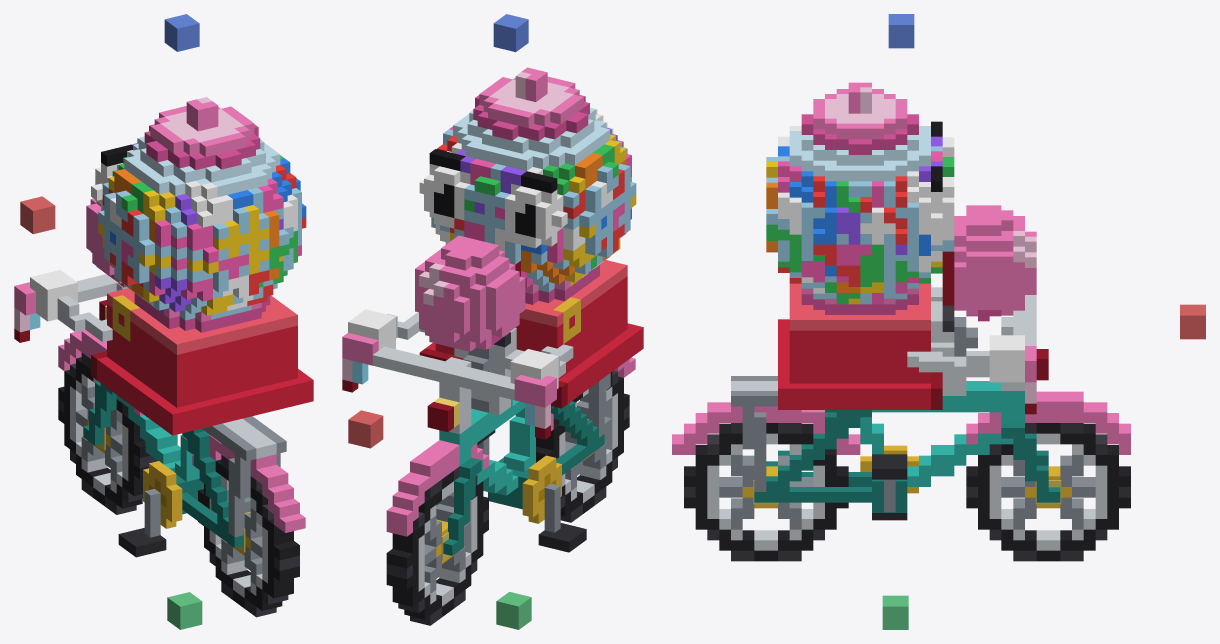
Rendered from ChicleteiraBicicleteira.glb.
The picture shows the model from 3 angles, left to right: view 1: azimuth 30°, elevation 25°; view 2: azimuth 150°, elevation 25°; view 3: azimuth 270°, elevation 25°; orthographic projection.
Visible parts, largest first — view 1: ChicleteiraBicicleteira_Body, ChicleteiraBicicleteira_Prop1, ChicleteiraBicicleteira_Prop2, ChicleteiraBicicleteira_Prop3, ChicleteiraBicicleteira_Front, ChicleteiraBicicleteira_Top, ChicleteiraBicicleteira_Built; view 2: ChicleteiraBicicleteira_Body, ChicleteiraBicicleteira_Prop1, ChicleteiraBicicleteira_Prop2, ChicleteiraBicicleteira_Prop3, ChicleteiraBicicleteira_Top, ChicleteiraBicicleteira_Front, ChicleteiraBicicleteira_Built; view 3: ChicleteiraBicicleteira_Body, ChicleteiraBicicleteira_Prop1, ChicleteiraBicicleteira_Prop2, ChicleteiraBicicleteira_Prop3, ChicleteiraBicicleteira_Built, ChicleteiraBicicleteira_Top, ChicleteiraBicicleteira_Front.
Part boxes in pixels (bbox=[...]): ChicleteiraBicicleteira_Body: bbox=[14, 97, 313, 547]; ChicleteiraBicicleteira_Prop1: bbox=[58, 352, 157, 514]; ChicleteiraBicicleteira_Prop2: bbox=[198, 455, 299, 617]; ChicleteiraBicicleteira_Prop3: bbox=[118, 461, 182, 557]; ChicleteiraBicicleteira_Front: bbox=[20, 196, 55, 234]; ChicleteiraBicicleteira_Top: bbox=[164, 14, 199, 51]; ChicleteiraBicicleteira_Built: bbox=[167, 592, 202, 629]; ChicleteiraBicicleteira_Body: bbox=[342, 67, 643, 555]; ChicleteiraBicicleteira_Prop1: bbox=[386, 466, 488, 625]; ChicleteiraBicicleteira_Prop2: bbox=[536, 370, 629, 522]; ChicleteiraBicicleteira_Prop3: bbox=[477, 430, 586, 552]; ChicleteiraBicicleteira_Top: bbox=[493, 14, 528, 52]; ChicleteiraBicicleteira_Front: bbox=[348, 410, 383, 448]; ChicleteiraBicicleteira_Built: bbox=[496, 592, 531, 629]; ChicleteiraBicicleteira_Body: bbox=[672, 82, 1130, 512]; ChicleteiraBicicleteira_Prop1: bbox=[966, 423, 1130, 561]; ChicleteiraBicicleteira_Prop2: bbox=[684, 423, 848, 561]; ChicleteiraBicicleteira_Prop3: bbox=[860, 445, 918, 520]; ChicleteiraBicicleteira_Built: bbox=[882, 595, 908, 629]; ChicleteiraBicicleteira_Top: bbox=[888, 14, 914, 48]; ChicleteiraBicicleteira_Front: bbox=[1180, 304, 1205, 339].
Size of the model in its own units: 2.27 by 6.45 by 5.16.
1 material, 1 textured.
